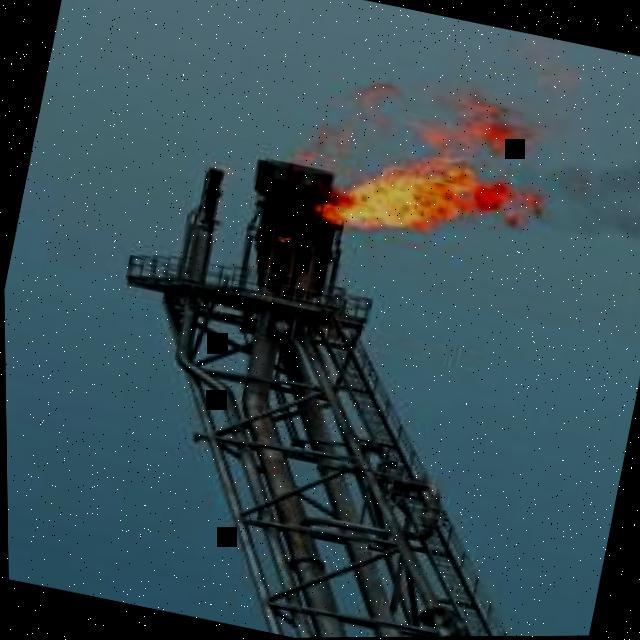fire: (316, 167, 502, 230)
smoke: (260, 64, 640, 238)
